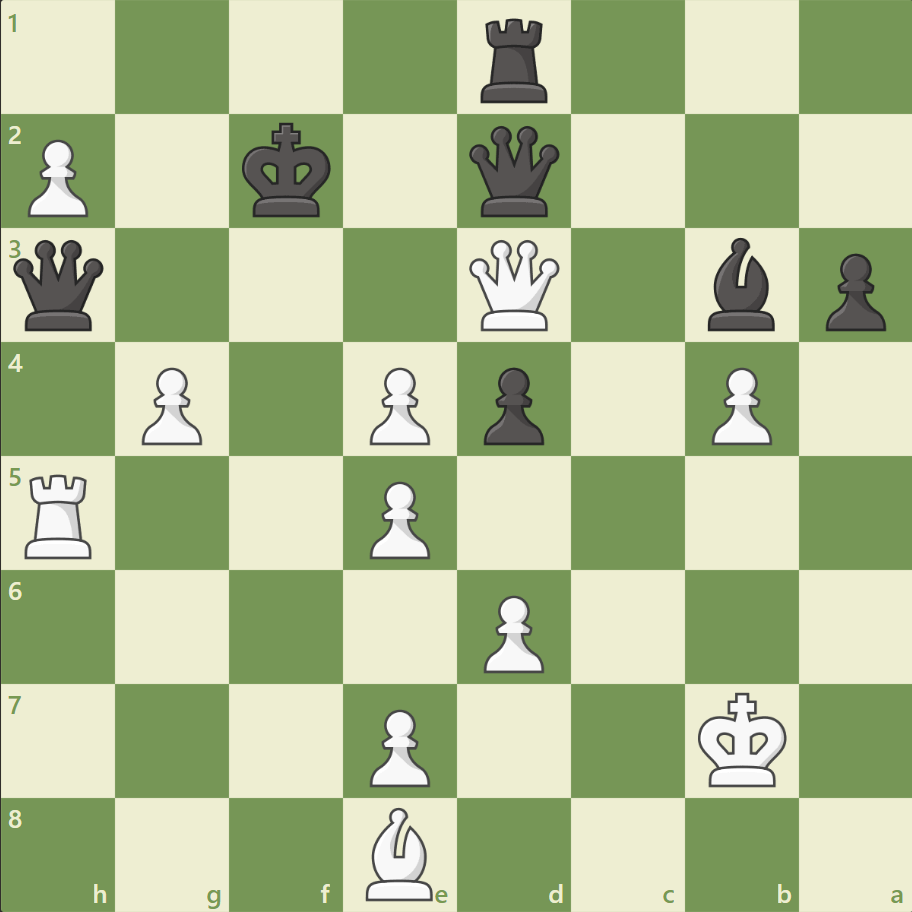B: (358, 801, 442, 904)
K: (692, 685, 792, 793)
P: (474, 586, 549, 677), (701, 359, 776, 450), (133, 359, 208, 450), (20, 132, 95, 223), (361, 700, 435, 791), (361, 473, 435, 564), (361, 359, 435, 450)
Q: (464, 236, 563, 335)
R: (19, 466, 102, 563)
b: (698, 233, 782, 336)
k: (238, 117, 338, 225)
p: (474, 359, 549, 450), (815, 246, 889, 337)
q: (464, 122, 563, 222), (10, 236, 109, 335)
r: (473, 12, 556, 109)
